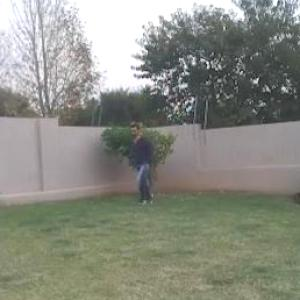follow: (128, 116, 156, 210)
